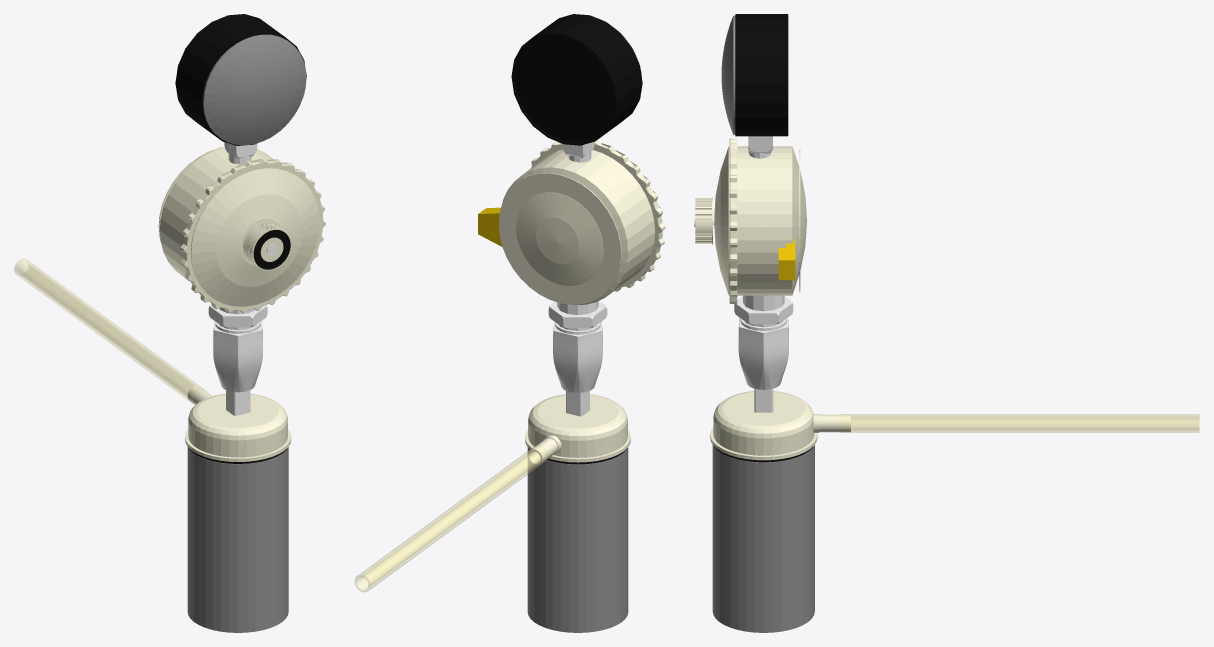
3 renders of one model, left to right at view 1: azimuth 30°, elevation 25°; view 2: azimuth 150°, elevation 25°; view 3: azimuth 270°, elevation 25°, orthographic.
Parts seen in each view (by area): view 1: 圆柱_8, 油桶_3, 油桶, 圆柱_4, 管道_1, 管道_3, 挤压, 放样, 挤压_1, 圆柱_7, 圆环, 圆柱_6 (+1 smaller); view 2: 圆柱_8, 油桶_3, 圆柱, 圆柱_3, 管道_1, 圆柱_4, 管道_3, 放样, 挤压, 圆柱_7, 放样_1, 圆柱_6 (+3 smaller); view 3: 圆柱_8, 油桶_3, 管道_3, 管道_1, 圆柱_4, 放样, 挤压, 油桶, 圆柱_7, 挤压_1, 圆柱_6, 圆柱_19.
Part boxes in pixels (left/top/right/bottom): 圆柱_8: left=187, top=447, right=288, bottom=632; 油桶_3: left=159, top=147, right=319, bottom=306; 油桶: left=203, top=34, right=306, bottom=145; 圆柱_4: left=188, top=393, right=287, bottom=457; 管道_1: left=175, top=14, right=306, bottom=145; 管道_3: left=14, top=259, right=206, bottom=404; 挤压: left=180, top=158, right=325, bottom=313; 放样: left=213, top=328, right=262, bottom=392; 挤压_1: left=244, top=222, right=291, bottom=270; 圆柱_7: left=208, top=304, right=267, bottom=327; 圆环: left=253, top=230, right=290, bottom=269; 圆柱_6: left=185, top=429, right=291, bottom=461; 圆柱_8: left=527, top=447, right=628, bottom=632; 油桶_3: left=502, top=149, right=654, bottom=304; 圆柱: left=514, top=35, right=614, bottom=142; 圆柱_3: left=498, top=173, right=621, bottom=304; 管道_1: left=511, top=14, right=642, bottom=145; 圆柱_4: left=528, top=394, right=627, bottom=457; 管道_3: left=354, top=445, right=547, bottom=592; 放样: left=553, top=326, right=602, bottom=392; 挤压: left=526, top=140, right=665, bottom=291; 圆柱_7: left=548, top=300, right=607, bottom=327; 放样_1: left=478, top=207, right=502, bottom=246; 圆柱_6: left=525, top=430, right=630, bottom=462; 圆柱_8: left=712, top=445, right=814, bottom=632; 油桶_3: left=714, top=146, right=806, bottom=295; 管道_3: left=841, top=414, right=1199, bottom=432; 管道_1: left=735, top=14, right=788, bottom=136; 圆柱_4: left=713, top=391, right=814, bottom=455; 放样: left=738, top=317, right=788, bottom=389; 挤压: left=729, top=138, right=737, bottom=303; 油桶: left=721, top=15, right=735, bottom=134; 圆柱_7: left=734, top=296, right=793, bottom=324; 挤压_1: left=695, top=198, right=711, bottom=243; 圆柱_6: left=710, top=427, right=817, bottom=460; 圆柱_19: left=743, top=295, right=784, bottom=327.
Bounding box in the file's own units: 117 × 421 × 325.
